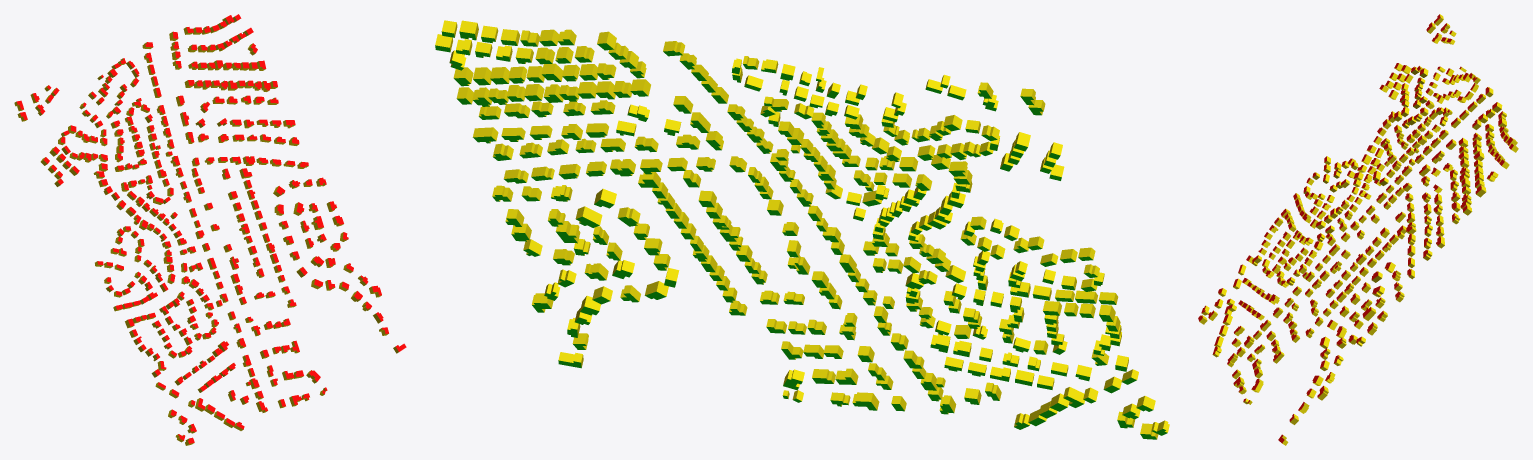
3 renders of one model, left to right at view 1: azimuth 30°, elevation 25°; view 2: azimuth 150°, elevation 25°; view 3: azimuth 270°, elevation 25°, orthographic. The views are drawn at different scales.
Parts seen in each view (by area): view 1: mesh; view 2: mesh; view 3: mesh.
Part boxes in pixels (box(x1,y1,x2,y2)): mesh: box(14, 14, 406, 445); mesh: box(435, 20, 1169, 439); mesh: box(1198, 14, 1518, 445).
Size of the model in its own units: 912 by 783 by 785.
